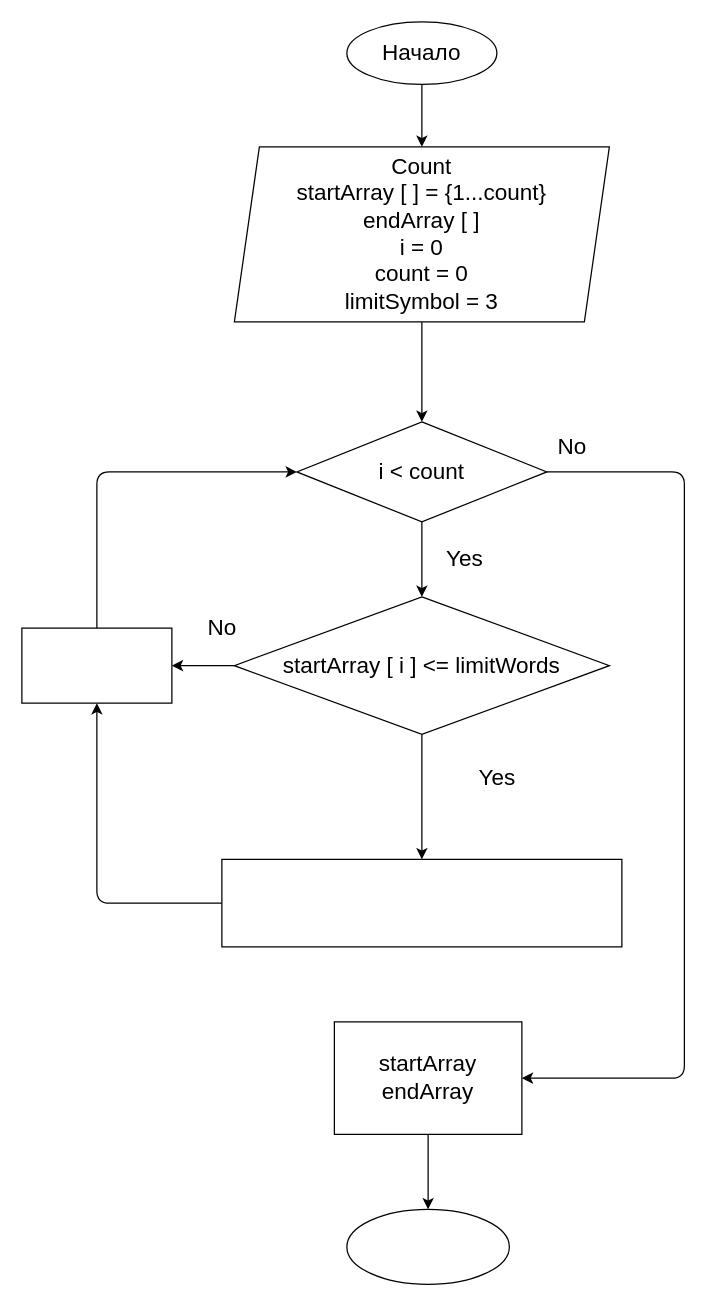
Image size: 716x1306. Some labels were removed from this diagram. The centre of each missing label's shape, as x and y in pixels:
"endArray [index] = startArray [ i ] index ++" belongs at point 421,902.
"i ++" belongs at point 96,665.
"Конец" belongs at point 427,1246.
